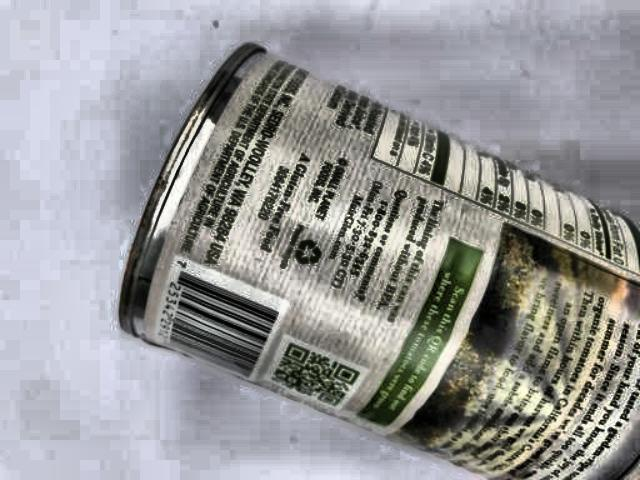Almennt: (93, 41, 640, 480)
